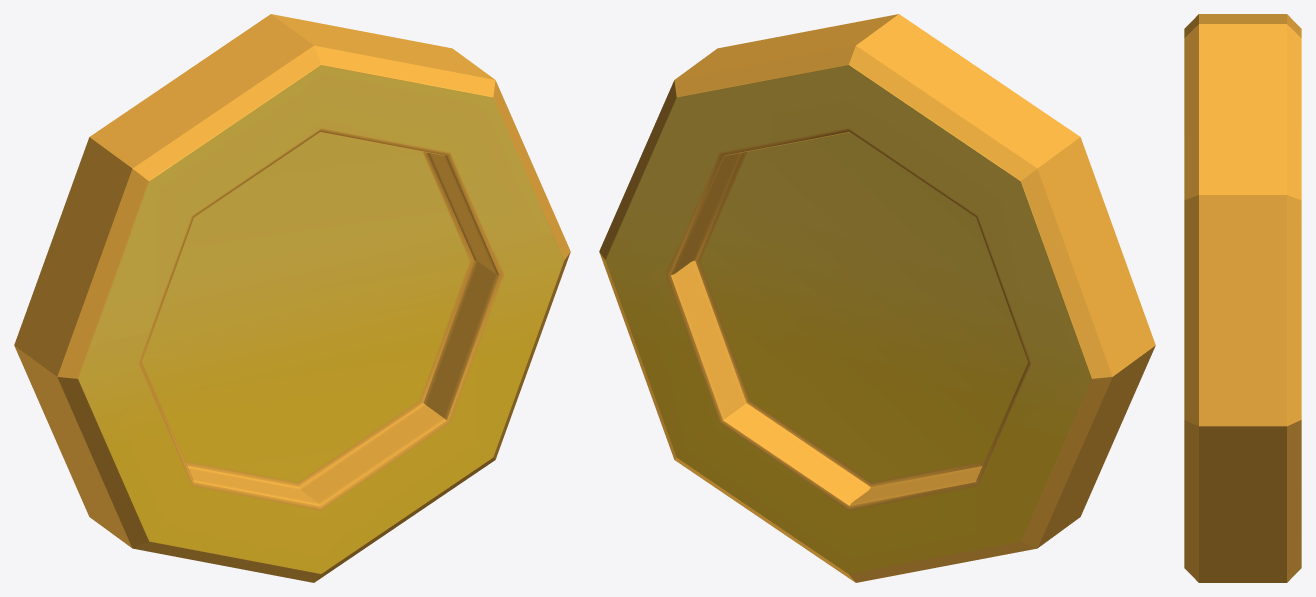
Rendered from Coin with Texture.fbx.
3 renders of one model, left to right at view 1: azimuth 30°, elevation 25°; view 2: azimuth 150°, elevation 25°; view 3: azimuth 270°, elevation 25°, orthographic. The views are drawn at different scales.
Visible parts, largest first — view 1: Coin; view 2: Coin; view 3: Coin.
Boxes of the visible parts, x1,y1,x2,y2 form: Coin: [14, 14, 570, 582]; Coin: [599, 14, 1155, 582]; Coin: [1184, 14, 1301, 582].
Bounding box in the file's own units: 93.98 × 93.98 × 18.23.
1 material, 1 textured.
